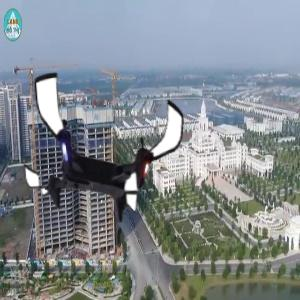drone: (20, 62, 192, 234)
